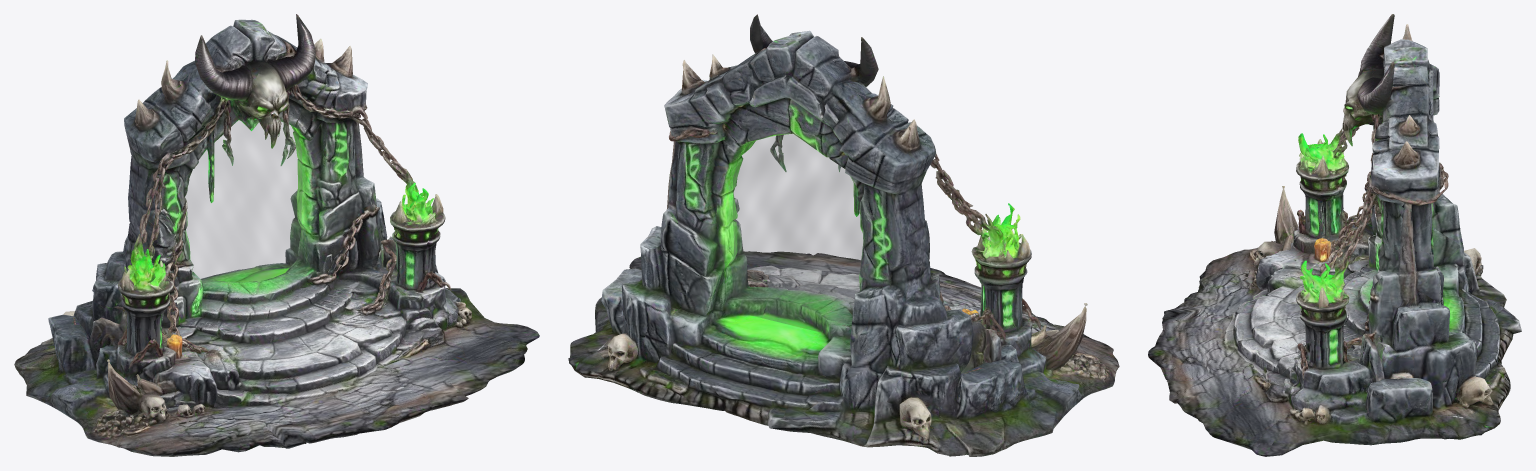
File: ancient-gateway-chaos.glb
The picture shows the model from 3 angles, left to right: view 1: azimuth 30°, elevation 25°; view 2: azimuth 150°, elevation 25°; view 3: azimuth 270°, elevation 25°; orthographic projection. The views are drawn at different scales.
Visible parts, largest first — view 1: Object_4, ChaosVeil; view 2: Object_4, ChaosVeil; view 3: Object_4.
Boxes of the visible parts, left/top/right/bottom form: Object_4: left=14, top=14, right=539, bottom=456; ChaosVeil: left=127, top=120, right=305, bottom=282; Object_4: left=568, top=14, right=1119, bottom=456; ChaosVeil: left=729, top=134, right=924, bottom=333; Object_4: left=1148, top=14, right=1521, bottom=456.
Bounding box in the file's own units: 1.9 × 1.32 × 1.4.
2 materials, 2 textured.
